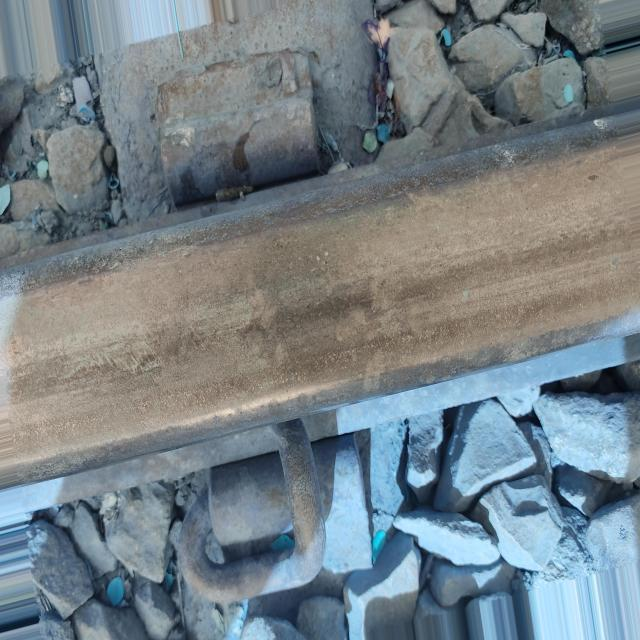Good Fasteners: (173, 428, 379, 614)
Missing Fastener: (156, 50, 367, 203)
